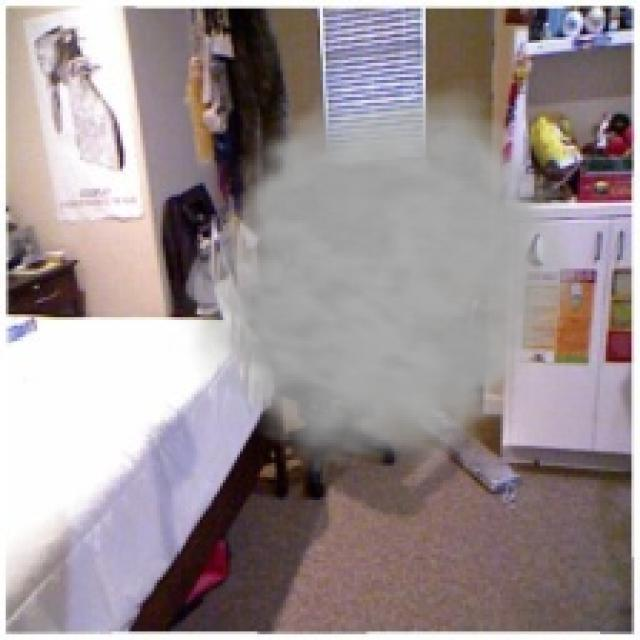Smoke: (168, 72, 592, 477)
